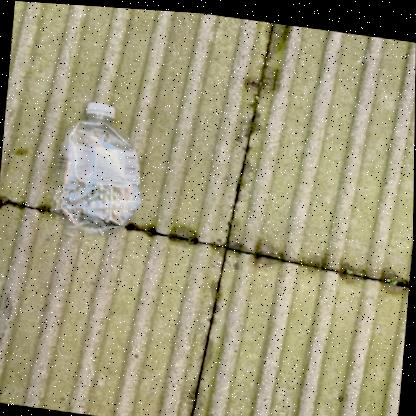Plastic: (51, 100, 140, 234)
